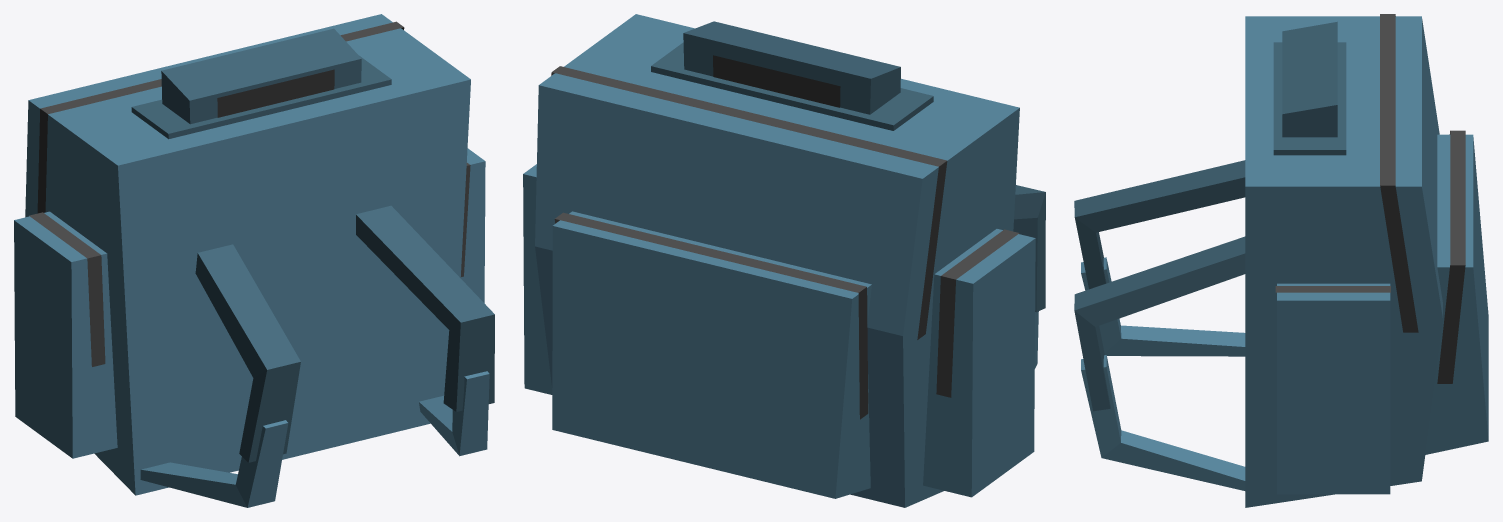
File: Item_Backpack005.FBX
3 views of the same model, side by side, from view 1: azimuth 30°, elevation 25°; view 2: azimuth 150°, elevation 25°; view 3: azimuth 270°, elevation 25° (orthographic). The views are drawn at different scales.
Visible parts, largest first — view 1: Item_Backpack005; view 2: Item_Backpack005; view 3: Item_Backpack005.
Boxes of the visible parts, x1=… form: Item_Backpack005: x1=14, y1=14, x2=494, y2=507; Item_Backpack005: x1=523, y1=14, x2=1045, y2=507; Item_Backpack005: x1=1074, y1=14, x2=1488, y2=507.
Size of the model in its own units: 48.36 by 41.63 by 42.46.
